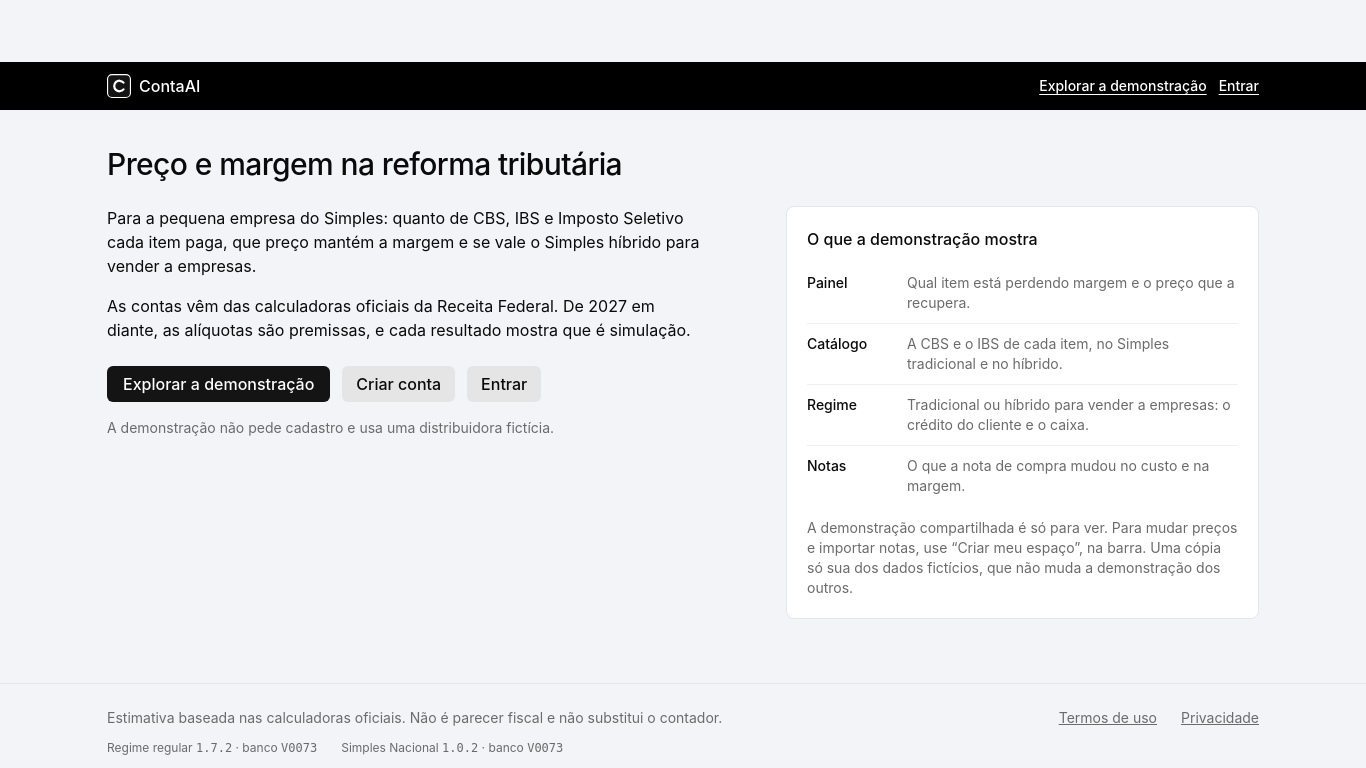
it: página inicial › explorar a demonstração abre o Painel, com a faixa de dados fictícios
(page scrolled)
Step 1. Click the link "Explorar a demonstração" next to "Criar conta" → (219, 384), box [107,366,330,402]
(page scrolled)
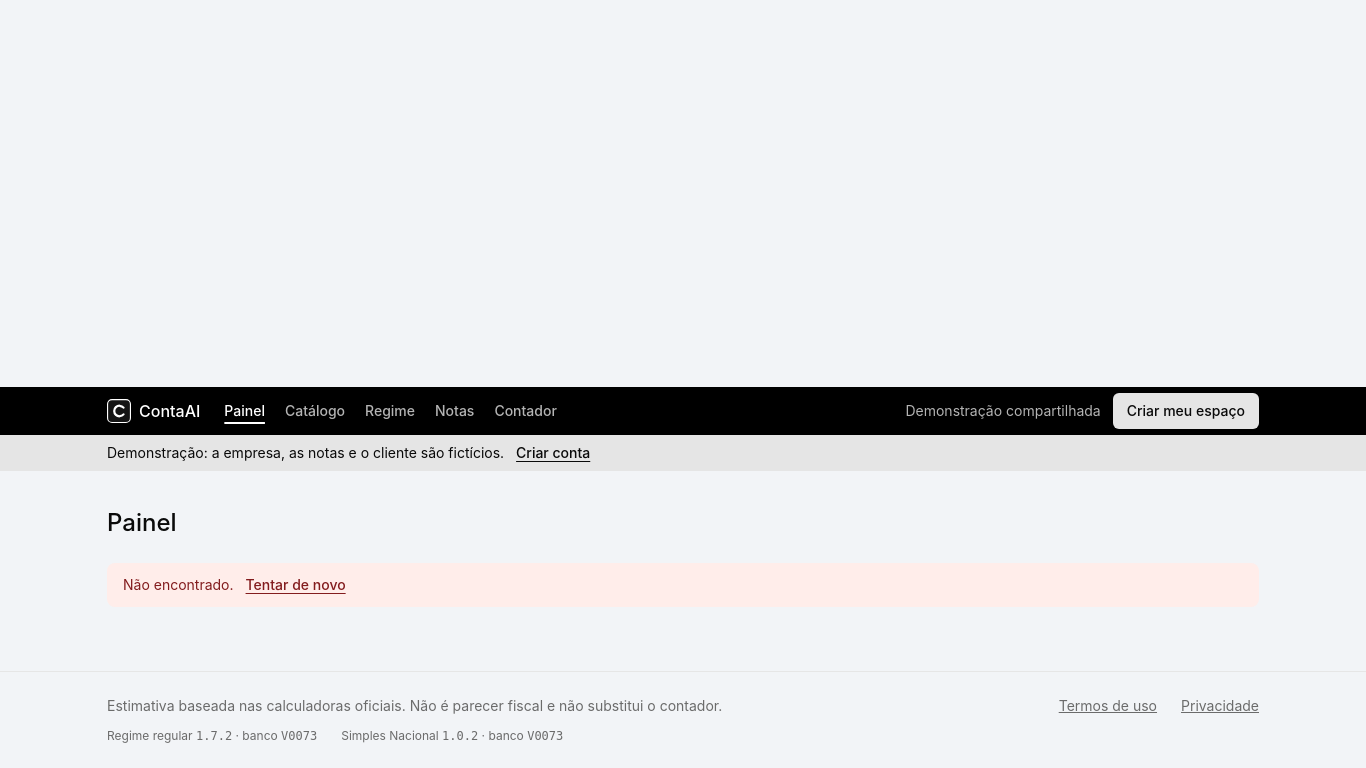
Expected: the heading "Painel" is shown, [107,508,177,537]
Expected: the text "Demonstração: a empresa, as notas e o cliente são fictícios." is shown, [107,443,504,463]
